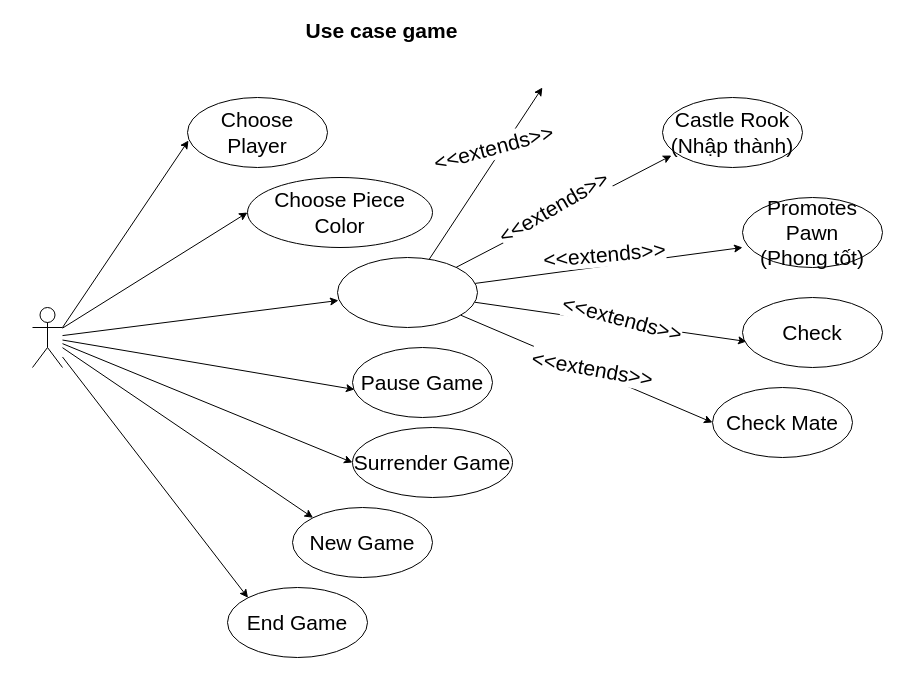
This 900x675 diagram has some shape labels left out. Each missing label, with the box of its shape:
Move Piece: (336, 256, 478, 328)
Player: (32, 306, 62, 368)
